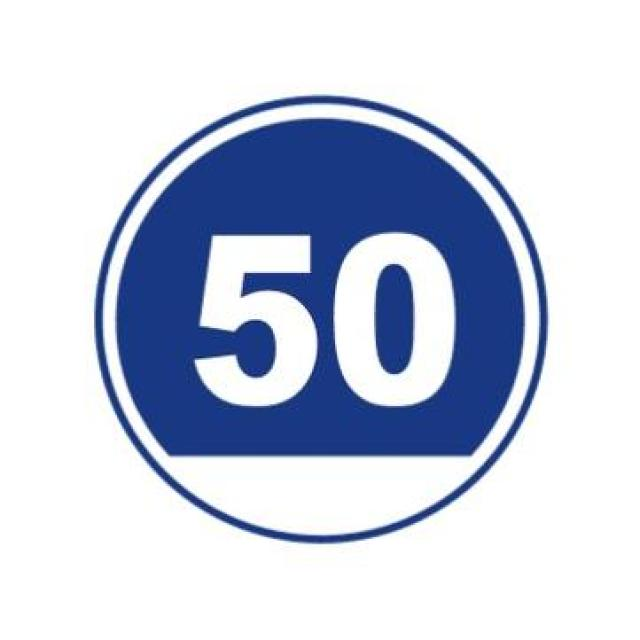speed limit 50: (93, 96, 548, 545)
